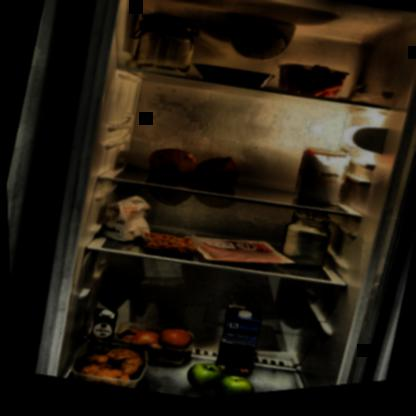apple: (175, 357, 260, 403)
heavy_cream: (83, 307, 117, 358)
milk: (209, 304, 266, 385)
onion: (105, 313, 196, 376)
potato: (71, 334, 150, 397)
shrimp: (135, 228, 199, 272)
strawberries: (272, 61, 348, 111)
sweet_potato: (140, 139, 249, 202)
